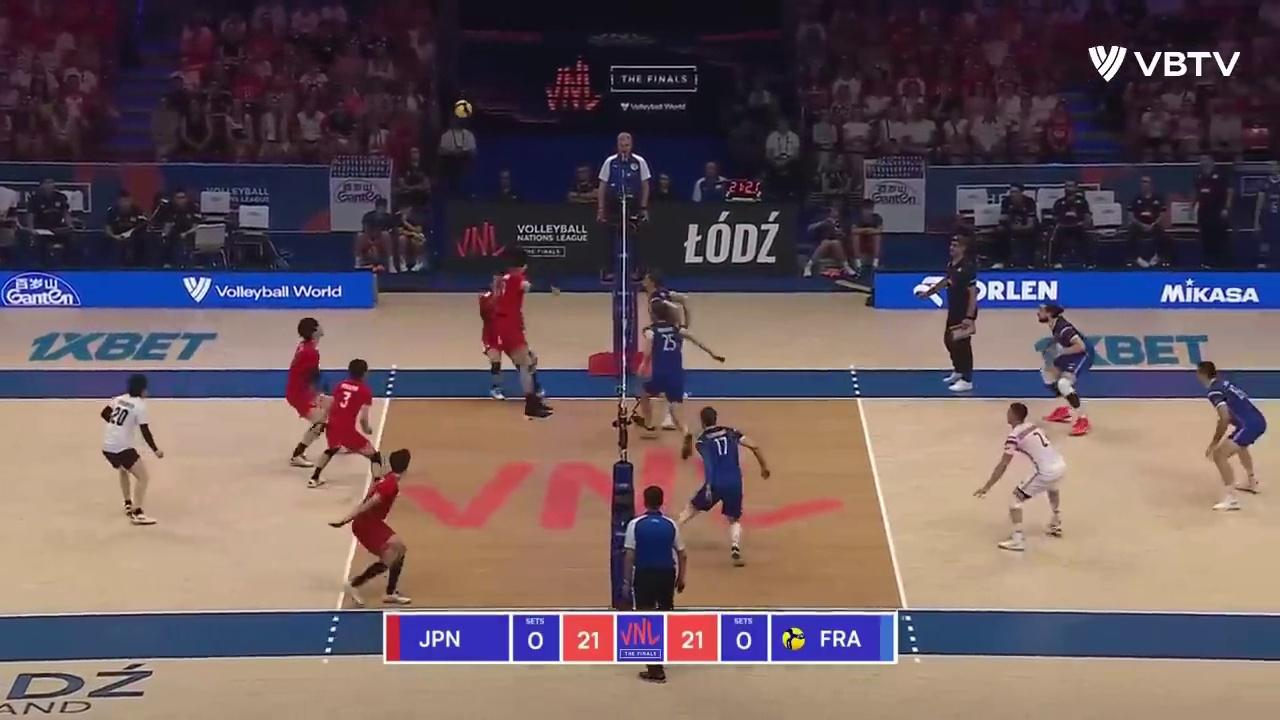ball: (456, 99, 473, 117)
